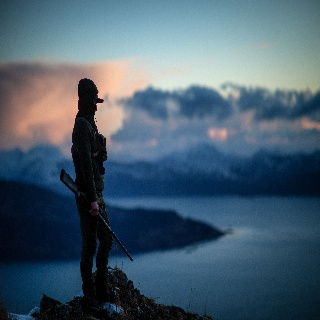rifle: (58, 167, 137, 263)
